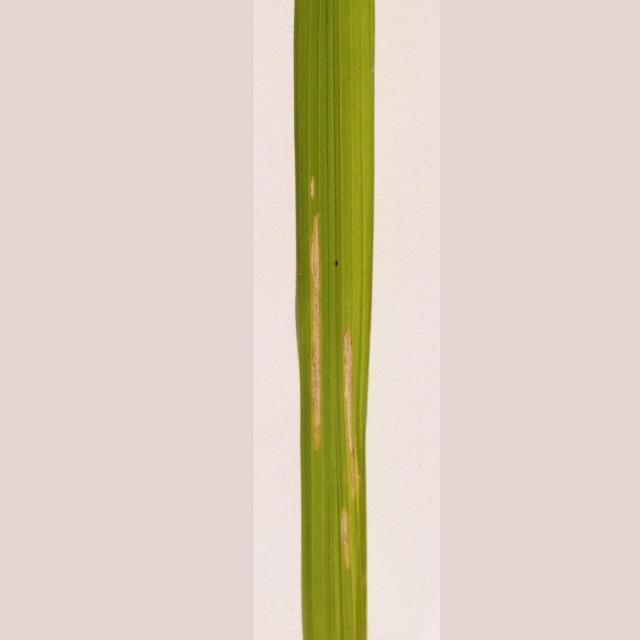Bacterial_Leaf_Blight: (283, 173, 337, 481), (326, 305, 370, 625)
